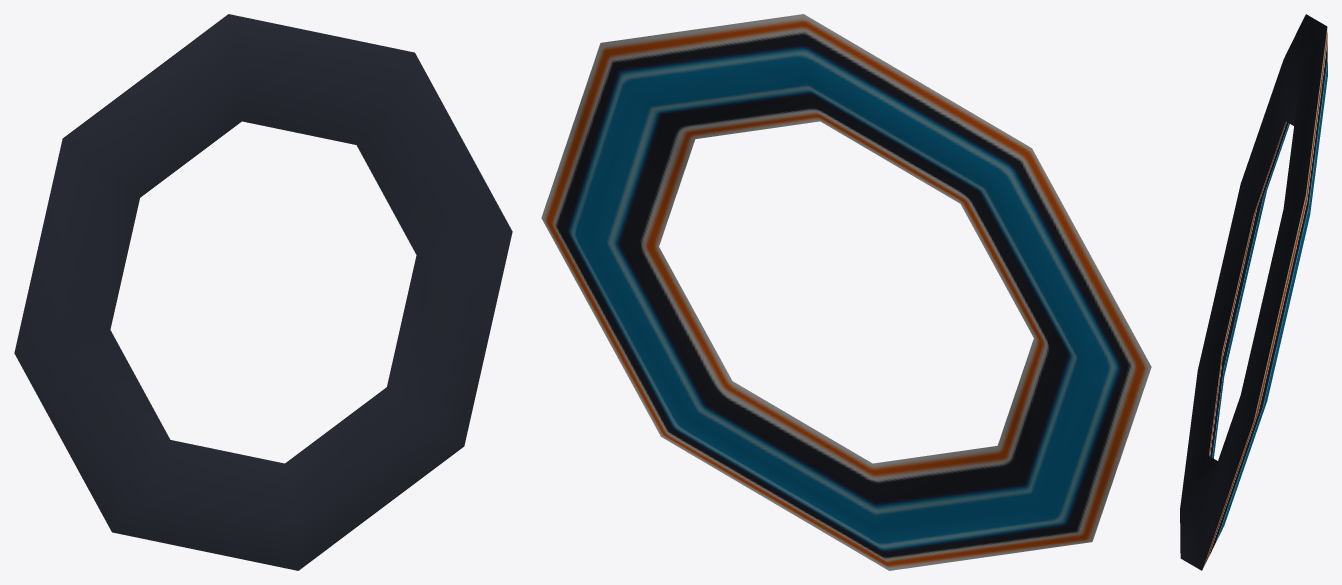
Rendered from Enemy06Boss_Disc.fbx.
3 renders of one model, left to right at view 1: azimuth 30°, elevation 25°; view 2: azimuth 150°, elevation 25°; view 3: azimuth 270°, elevation 25°, orthographic. The views are drawn at different scales.
Parts seen in each view (by area): view 1: Enemy06Boss_Disc; view 2: Enemy06Boss_Disc; view 3: Enemy06Boss_Disc.
Part boxes in pixels (x1,y1,x2,y2): Enemy06Boss_Disc: [14, 14, 512, 570]; Enemy06Boss_Disc: [541, 14, 1151, 570]; Enemy06Boss_Disc: [1180, 14, 1327, 570].
Size of the model in its own units: 1.8 by 1.75 by 0.4402.
